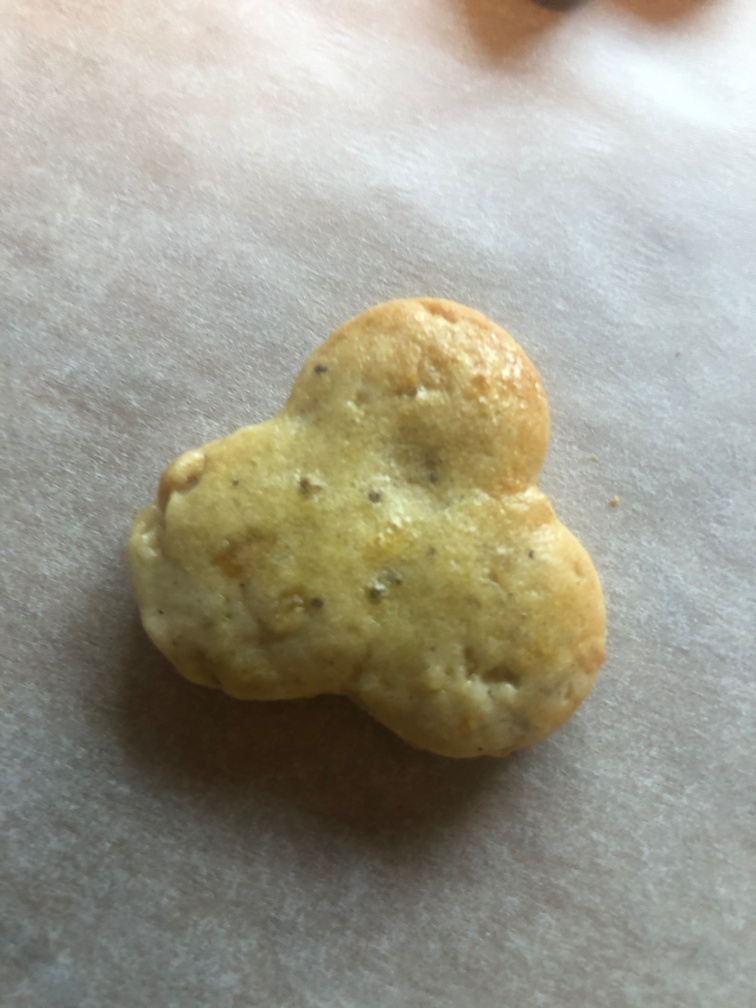flake: (115, 288, 619, 768)
